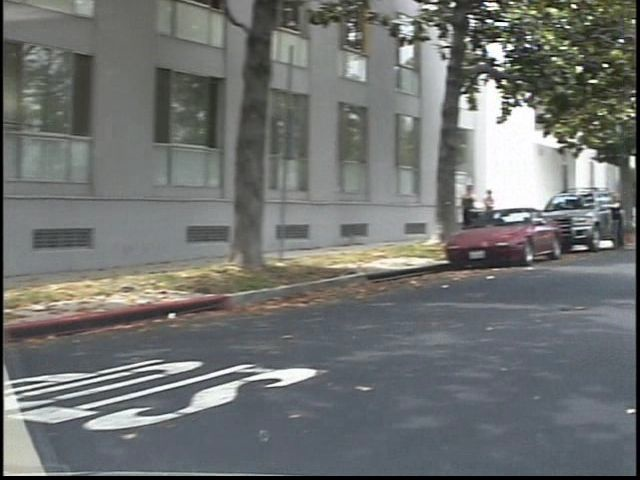person: (471, 179, 495, 244), (491, 185, 515, 239)
